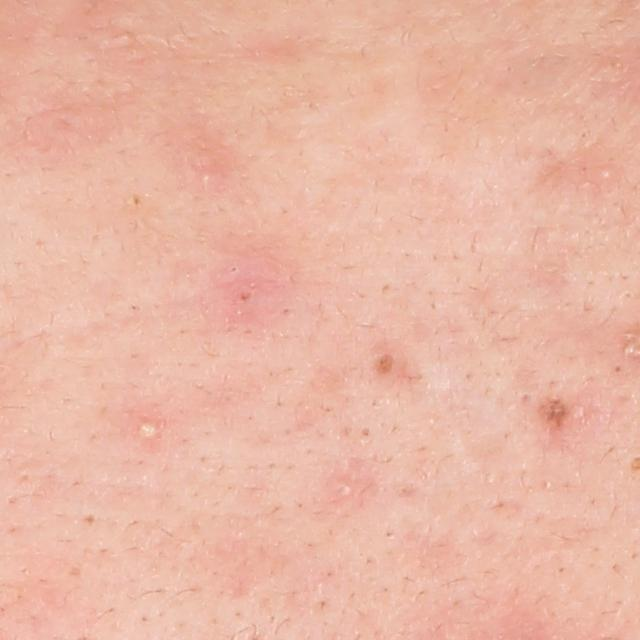comedo: (374, 351, 398, 380), (82, 510, 99, 529), (115, 29, 134, 43), (339, 481, 358, 494), (597, 167, 612, 182)
pustule: (133, 416, 163, 444)
